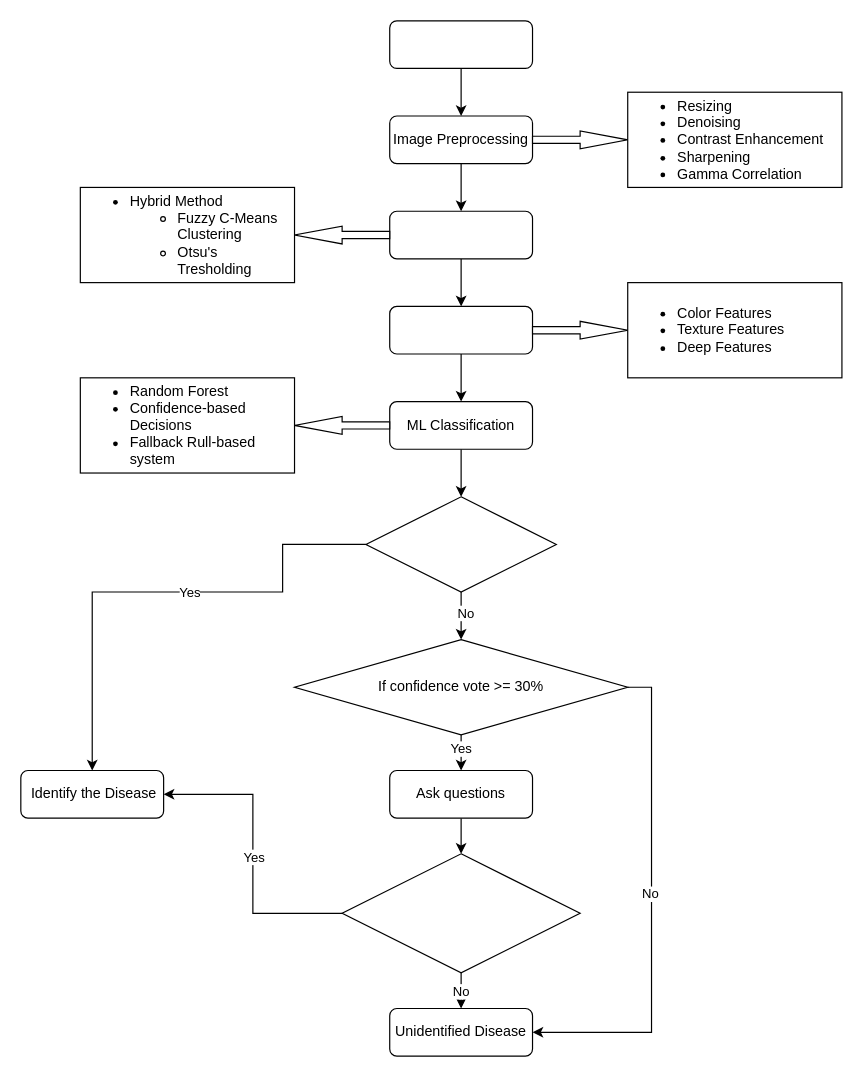
Image size: 863x1077. Some labels were removed from this diagram. Each missing label, with the centre of its shape:
Feature Extraction: [461,329]
If answers match with the predefined answer set: [460,913]
If confidence vote >= 68%: [460,544]
Image Input: [461,44]
Image Segmentation: [461,234]
